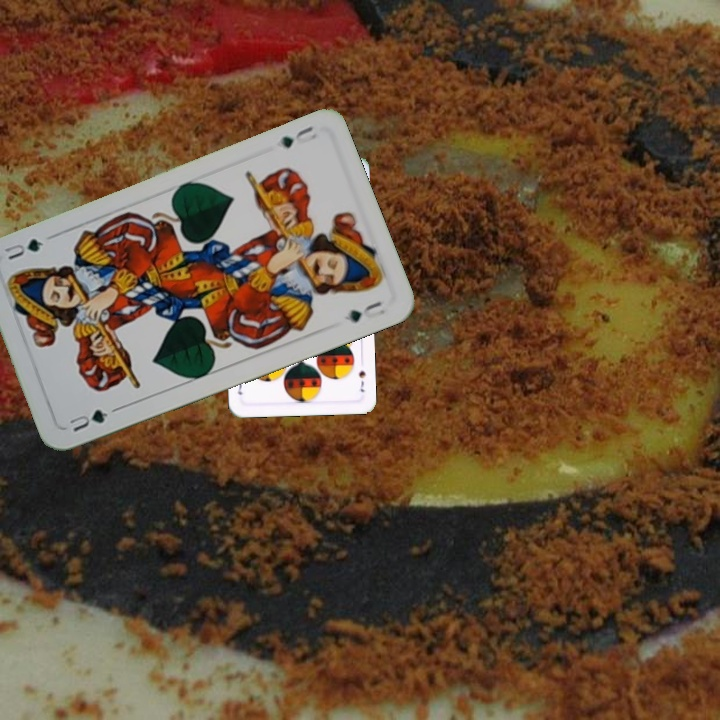GU: (64, 405, 111, 435), (275, 122, 320, 151)
S7: (355, 367, 368, 394)
